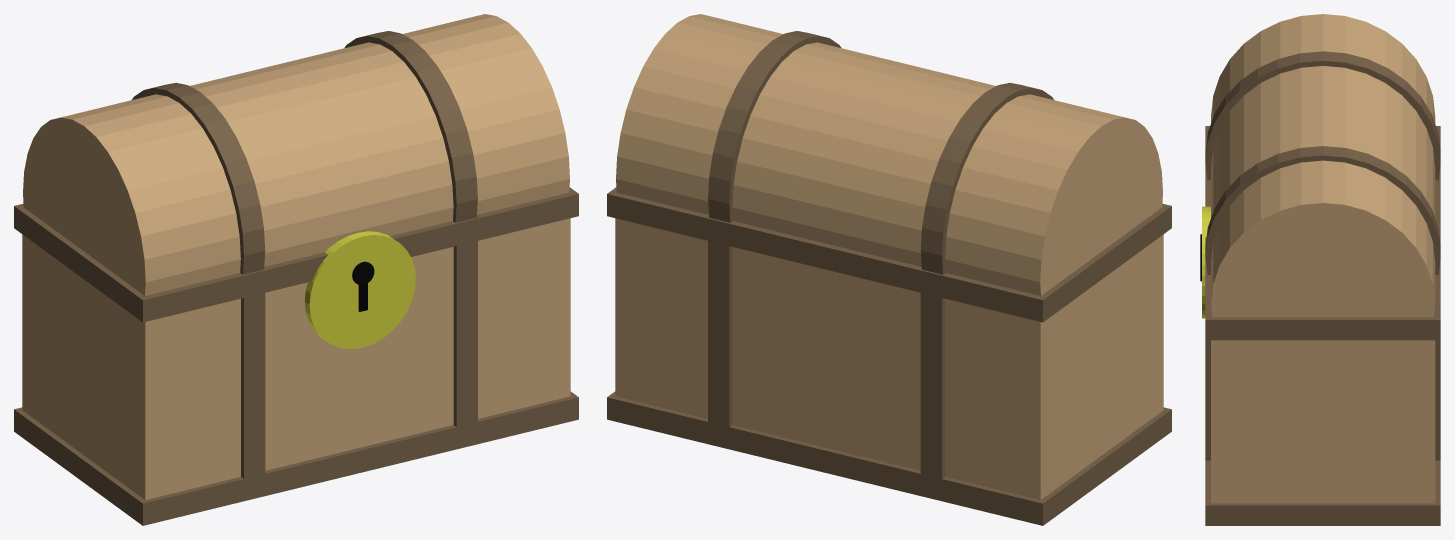
Rendered from treasureV2.fbx.
3 views of the same model, side by side, from view 1: azimuth 30°, elevation 25°; view 2: azimuth 150°, elevation 25°; view 3: azimuth 270°, elevation 25° (orthographic). The views are drawn at different scales.
Visible parts, largest first — view 1: TreasureChest; view 2: TreasureChest; view 3: TreasureChest.
Part boxes in pixels (bbox=[...]): TreasureChest: bbox=[14, 14, 578, 525]; TreasureChest: bbox=[607, 14, 1171, 525]; TreasureChest: bbox=[1200, 14, 1440, 525].
Bounding box in the file's own units: 410 × 320 × 215.
